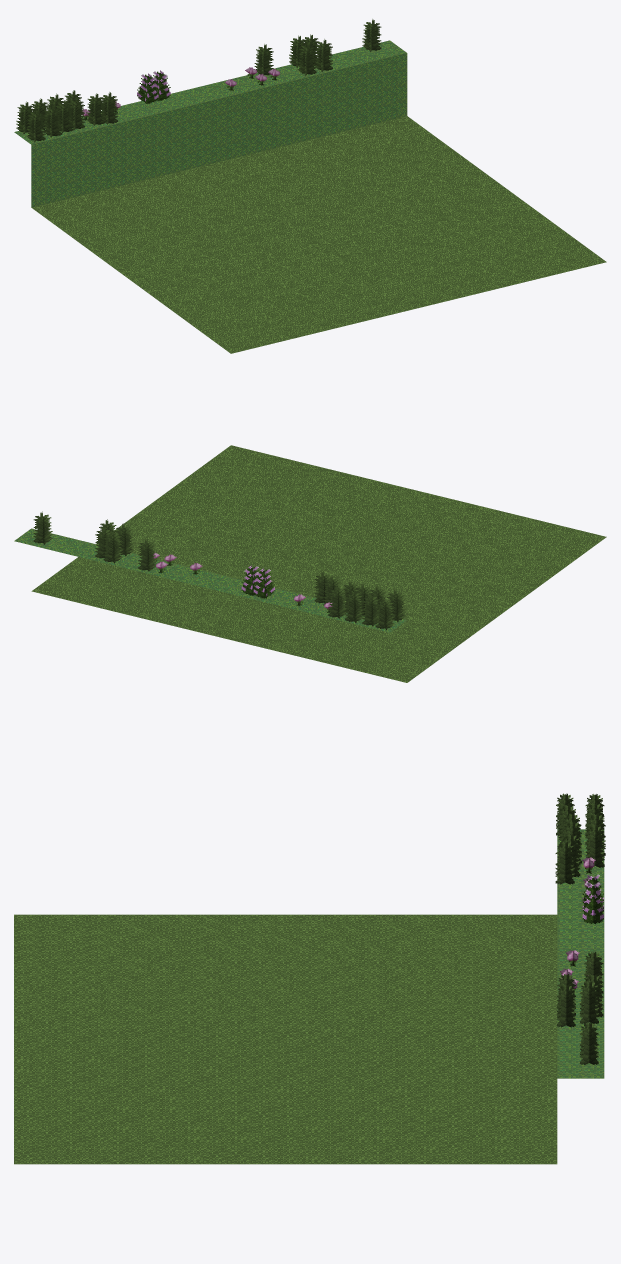
File: chunk200-0-lvl-1-transformed.glb
The picture shows the model from 3 angles, top to bottom: view 1: azimuth 30°, elevation 25°; view 2: azimuth 150°, elevation 25°; view 3: azimuth 270°, elevation 25°; orthographic projection. The views are drawn at different scales.
Visible parts, largest first — view 1: Grass_Block, Moss_Block, Large_Fern, Lilac; view 2: Grass_Block, Large_Fern, Moss_Block, Lilac, Allium; view 3: Grass_Block, Moss_Block, Large_Fern, Lilac.
Part boxes in pixels (<box>): Grass_Block: <box>31,116,606,353</box>; Moss_Block: <box>14,40,407,207</box>; Large_Fern: <box>16,19,381,142</box>; Lilac: <box>137,70,170,103</box>; Grass_Block: <box>31,445,606,682</box>; Large_Fern: <box>33,511,405,629</box>; Moss_Block: <box>14,528,406,632</box>; Lilac: <box>241,565,274,598</box>; Allium: <box>153,552,332,612</box>; Grass_Block: <box>14,914,557,1164</box>; Moss_Block: <box>557,829,604,1078</box>; Large_Fern: <box>555,793,605,1064</box>; Lilac: <box>582,874,603,924</box>.
Size of the model in its own units: 25 by 10 by 25.11.
Materials: 8 (8 with a texture image).
